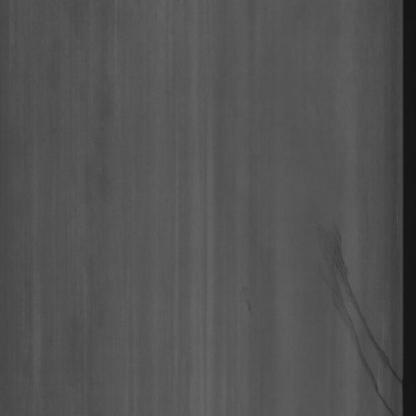water_spot: (321, 215, 401, 416)
